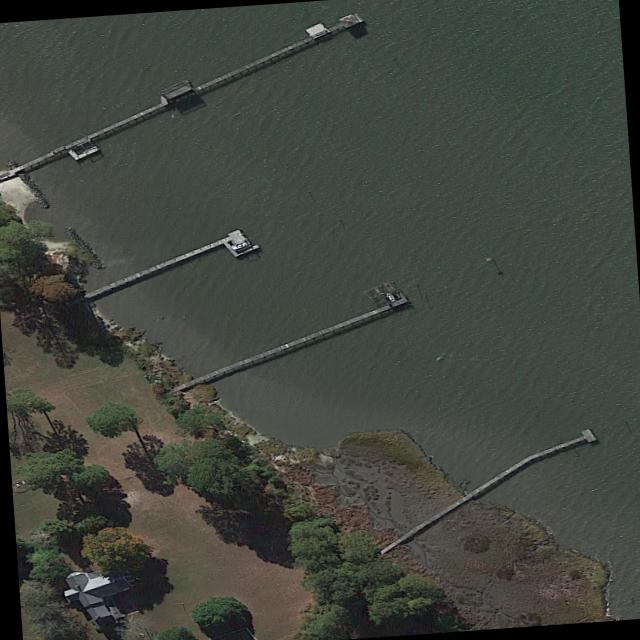ship: (229, 239, 250, 249), (384, 291, 395, 301)
